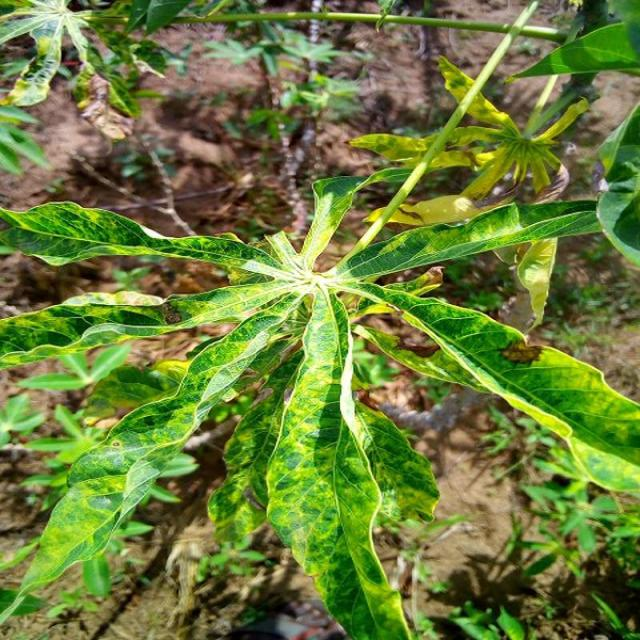cassava leaf: (0, 12, 638, 637)
